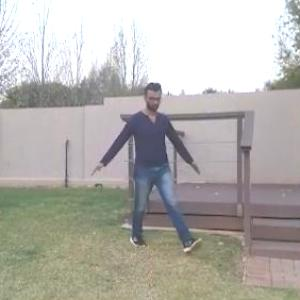land: (89, 77, 201, 269)
